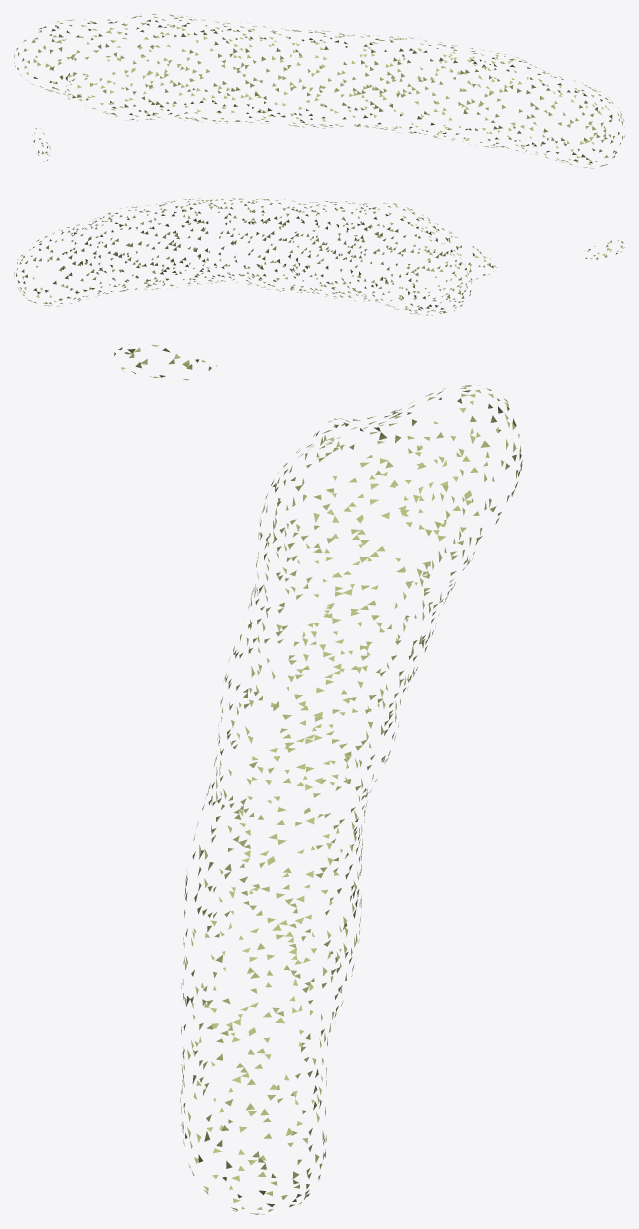
Rendered from morph_010.glb.
3 views of the same model, one above another, from view 1: azimuth 30°, elevation 25°; view 2: azimuth 150°, elevation 25°; view 3: azimuth 270°, elevation 25° (orthographic). The views are drawn at different scales.
Bounding box in the file's own units: 105 × 35.87 × 32.82.
